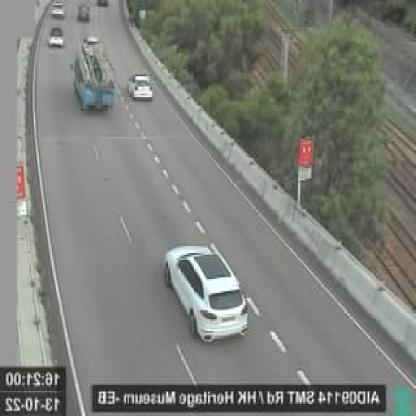Car: (163, 242, 251, 345), (127, 72, 154, 104), (46, 26, 64, 49), (52, 0, 66, 18), (77, 2, 89, 22), (97, 1, 110, 9)
Truck: (70, 36, 118, 115)
